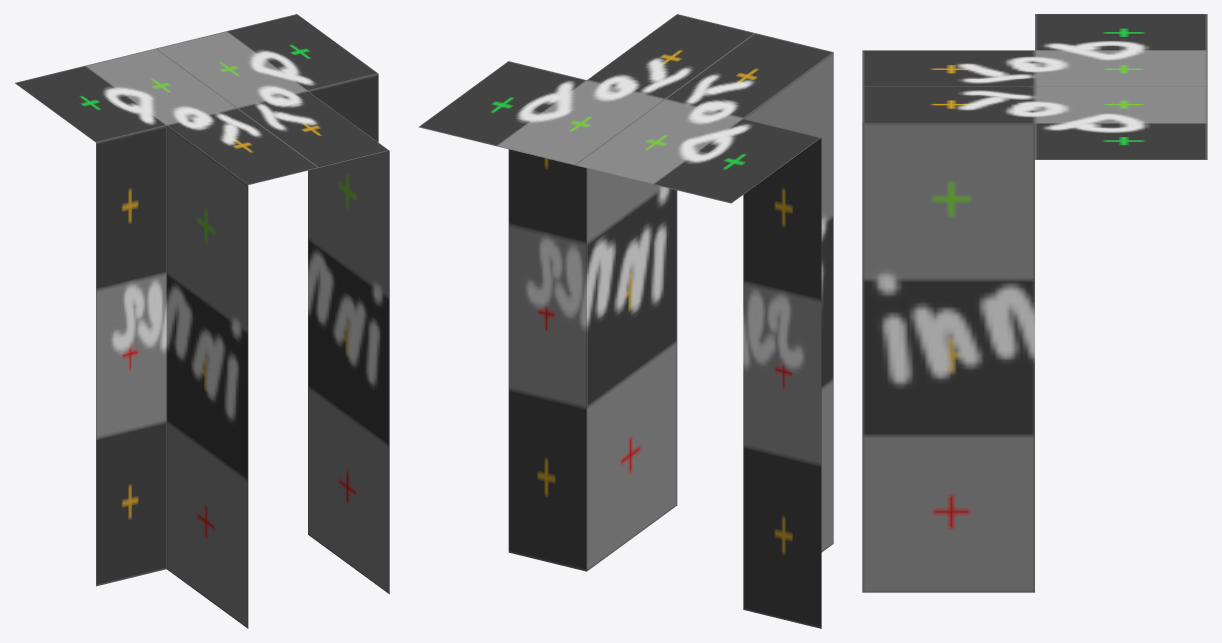
The model's file is WallArch1x2x3Test.fbx.
3 views of the same model, side by side, from view 1: azimuth 30°, elevation 25°; view 2: azimuth 150°, elevation 25°; view 3: azimuth 270°, elevation 25° (orthographic). The views are drawn at different scales.
Visible parts, largest first — view 1: DoorWall_1x2x3_Inner_Test; view 2: DoorWall_1x2x3_Inner_Test; view 3: DoorWall_1x2x3_Inner_Test.
Boxes of the visible parts, x1=… form: DoorWall_1x2x3_Inner_Test: x1=15, y1=14, x2=389, y2=628; DoorWall_1x2x3_Inner_Test: x1=418, y1=14, x2=833, y2=628; DoorWall_1x2x3_Inner_Test: x1=862, y1=14, x2=1207, y2=592.
Size of the model in its own units: 2 by 2 by 3.
Materials: 1 (1 with a texture image).
